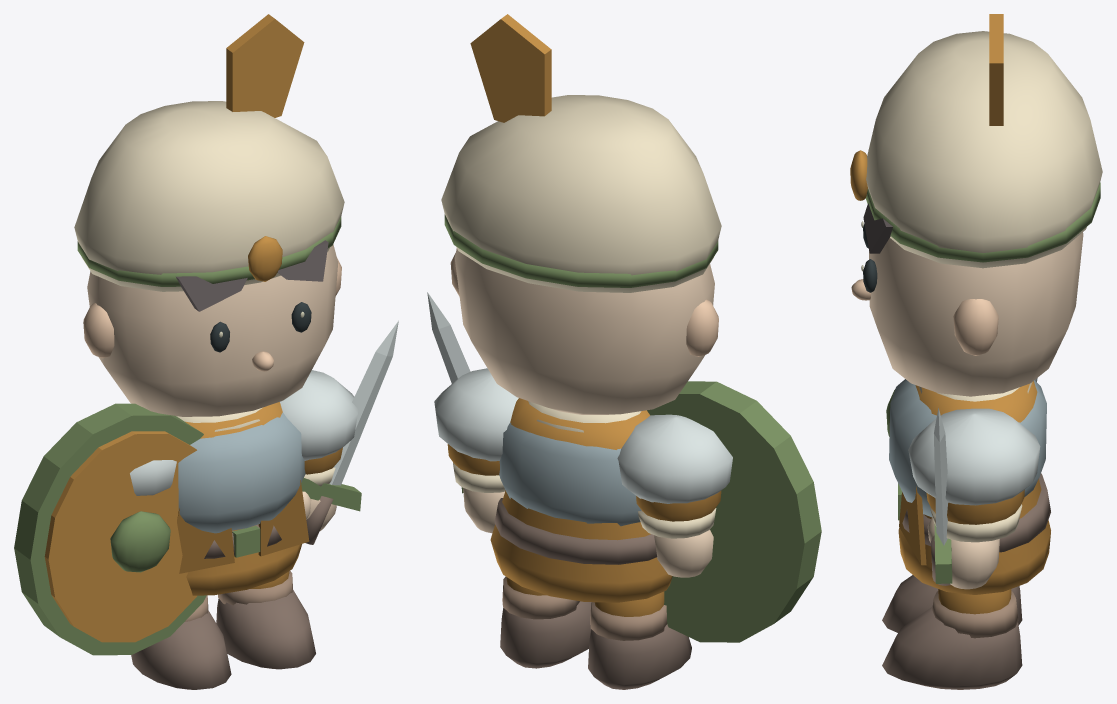
Rendered from guard.glb.
3 views of the same model, side by side, from view 1: azimuth 30°, elevation 25°; view 2: azimuth 150°, elevation 25°; view 3: azimuth 270°, elevation 25° (orthographic). The views are drawn at different scales.
Parts seen in each view (by area): view 1: Layered cloth turban, Soft cheek head, Regional shield face, Shield gold rim, Rounded breastplate, Turban fan, Round leather boot.001, Round leather boot, Big shoulder armour.001, Short folded tunic, Shield boss, Turban wrapping (+13 smaller); view 2: Layered cloth turban, Soft cheek head, Shield gold rim, Short folded tunic, Rounded breastplate, Big shoulder armour, Turban fan, Big shoulder armour.001, Round leather boot, Round leather boot.001, Broad leather belt, Turban wrapping (+12 smaller); view 3: Layered cloth turban, Soft cheek head, Big shoulder armour.001, Round leather boot.001, Short folded tunic, Rounded breastplate, Turban wrapping, Ear.001, Little mitten.001, Boot turn cuff.001, Round leather boot, Broad leather belt (+11 smaller).
Part boxes in pixels (box(x1,y1,x2,y2)): Layered cloth turban: box(74, 101, 344, 291); Soft cheek head: box(87, 244, 338, 416); Regional shield face: box(44, 431, 196, 642); Shield gold rim: box(14, 403, 206, 655); Rounded breastplate: box(178, 412, 305, 533); Turban fan: box(226, 14, 304, 117); Round leather boot.001: box(216, 589, 315, 669); Round leather boot: box(131, 610, 231, 689); Big shoulder armour.001: box(280, 370, 358, 460); Short folded tunic: box(185, 402, 301, 595); Shield boss: box(110, 511, 170, 572); Turban wrapping: box(77, 216, 341, 286); Layered cloth turban: box(441, 95, 721, 292); Soft cheek head: box(454, 248, 714, 414); Shield gold rim: box(647, 381, 821, 642); Short folded tunic: box(490, 398, 672, 602); Rounded breastplate: box(499, 423, 641, 526); Big shoulder armour: box(617, 414, 732, 503); Turban fan: box(470, 14, 551, 122); Big shoulder armour.001: box(434, 368, 518, 461); Round leather boot: box(588, 624, 691, 689); Round leather boot.001: box(500, 601, 591, 668); Broad leather belt: box(494, 498, 657, 564); Turban wrapping: box(444, 214, 718, 287); Layered cloth turban: box(866, 31, 1102, 268); Soft cheek head: box(869, 232, 1083, 396); Big shoulder armour.001: box(908, 408, 1040, 505); Round leather boot.001: box(882, 606, 1022, 689); Short folded tunic: box(898, 381, 1050, 594); Rounded breastplate: box(889, 379, 1046, 517); Turban wrapping: box(865, 182, 1100, 262); Ear.001: box(953, 299, 998, 355); Little mitten.001: box(950, 539, 999, 589); Boot turn cuff.001: box(932, 591, 1018, 638); Round leather boot: box(882, 575, 1022, 632); Broad leather belt: box(902, 473, 1050, 552).
Size of the model in its own units: 1.15 by 1.81 by 0.612.
